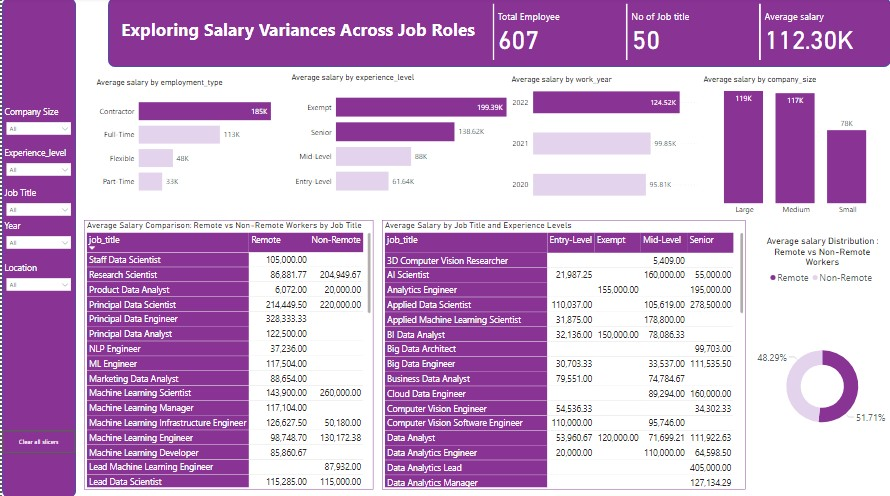

Layout of this report page (visuals, bound fields, positions):
{"tool":"powerbi","page":{"name":"Page 1","canvas":[1920,1080],"ordinal":0},"visuals":[{"type":"pivotTable","title":"Average Salary Comparison: Remote vs Non-Remote Workers by Job Title","fields":{"Values":["Dax.Remote","Dax.Non-Remote"],"Rows":["ds_salaries.job_title"]},"box":[176.4,478.7,624.9,582],"z":0},{"type":"shape","box":[229.3,0,1690.7,148.7],"z":1000},{"type":"barChart","fields":{"Y":["Dax.Average salary"],"Category":["ds_salaries.employment_type"]},"box":[199.1,173.9,410.7,269.6],"z":2000},{"type":"cardVisual","fields":{"Data":["Dax.Total Employee","Dax.No of Job title","Dax.Average salary"]},"box":[1053.2,7.6,866.8,133.5],"z":3000},{"type":"shape","box":[0,0,159.8,1080],"z":4000},{"type":"pivotTable","title":"Average Salary by Job Title and Experience Levels","fields":{"Values":["Dax.Average salary"],"Columns":["ds_salaries.experience_level"],"Rows":["ds_salaries.job_title"]},"box":[821.4,478.7,786.1,582],"z":5000},{"type":"barChart","fields":{"Y":["Dax.Average salary"],"Category":["ds_salaries.experience_level"]},"box":[619.8,161.3,476.2,282.2],"z":6000},{"type":"barChart","fields":{"Y":["Dax.Average salary"],"Category":["ds_salaries.work_year"]},"box":[1096.1,166.3,413.2,277.2],"z":7000},{"type":"donutChart","title":"Average salary Distribution :  Remote vs Non-Remote Workers","fields":{"Category":["ds_salaries.Remote worker"],"Y":["Dax.Average salary"]},"box":[1625.2,514,294.8,546.8],"z":8000},{"type":"columnChart","fields":{"Category":["ds_salaries.company_size"],"Y":["Dax.Average salary"]},"box":[1509.3,166.3,410.7,312.4],"z":9000},{"type":"slicer","title":"Company Size","fields":{"Values":["ds_salaries.company_size"]},"box":[0,234.3,158.7,70.6],"z":10000},{"type":"slicer","title":"Experience_level","fields":{"Values":["ds_salaries.experience_level"]},"box":[0,322.5,158.7,70.6],"z":11000},{"type":"slicer","title":"Job Title","fields":{"Values":["ds_salaries.job_title"]},"box":[0,408.2,158.7,70.6],"z":12000},{"type":"slicer","title":"Year","fields":{"Values":["ds_salaries.work_year"]},"box":[0,478.7,158.7,70.6],"z":13000},{"type":"slicer","title":"Location","fields":{"Values":["ds_salaries.company_location"]},"box":[0,569.4,158.7,70.6],"z":14000},{"type":"actionButton","box":[0,932.3,158.7,50.4],"z":15000},{"type":"textbox","box":[252,37.8,801.3,73.1],"z":16000}]}

Visuals, with their boxes in screenshot pixels (x1, y1, x2, y2), scaled from the page's 1920x1080 canvas onto the 890x496 screenshot:
"Average Salary Comparison: Remote vs Non-Remote Workers by Job Title" pivotTable: [82, 220, 371, 487]
shape: [106, 0, 889, 68]
barChart - Dax.Average salary x ds_salaries.employment_type: [92, 80, 283, 204]
cardVisual - Dax.Total Employee x Dax.No of Job title: [488, 3, 889, 65]
shape: [0, 0, 74, 495]
"Average Salary by Job Title and Experience Levels" pivotTable: [381, 220, 745, 487]
barChart - Dax.Average salary x ds_salaries.experience_level: [287, 74, 508, 204]
barChart - Dax.Average salary x ds_salaries.work_year: [508, 76, 700, 204]
"Average salary Distribution :  Remote vs Non-Remote Workers" donutChart: [753, 236, 889, 487]
columnChart - ds_salaries.company_size x Dax.Average salary: [700, 76, 889, 220]
"Company Size" slicer: [0, 108, 74, 140]
"Experience_level" slicer: [0, 148, 74, 181]
"Job Title" slicer: [0, 187, 74, 220]
"Year" slicer: [0, 220, 74, 252]
"Location" slicer: [0, 262, 74, 294]
actionButton: [0, 428, 74, 451]
textbox: [117, 17, 488, 51]
